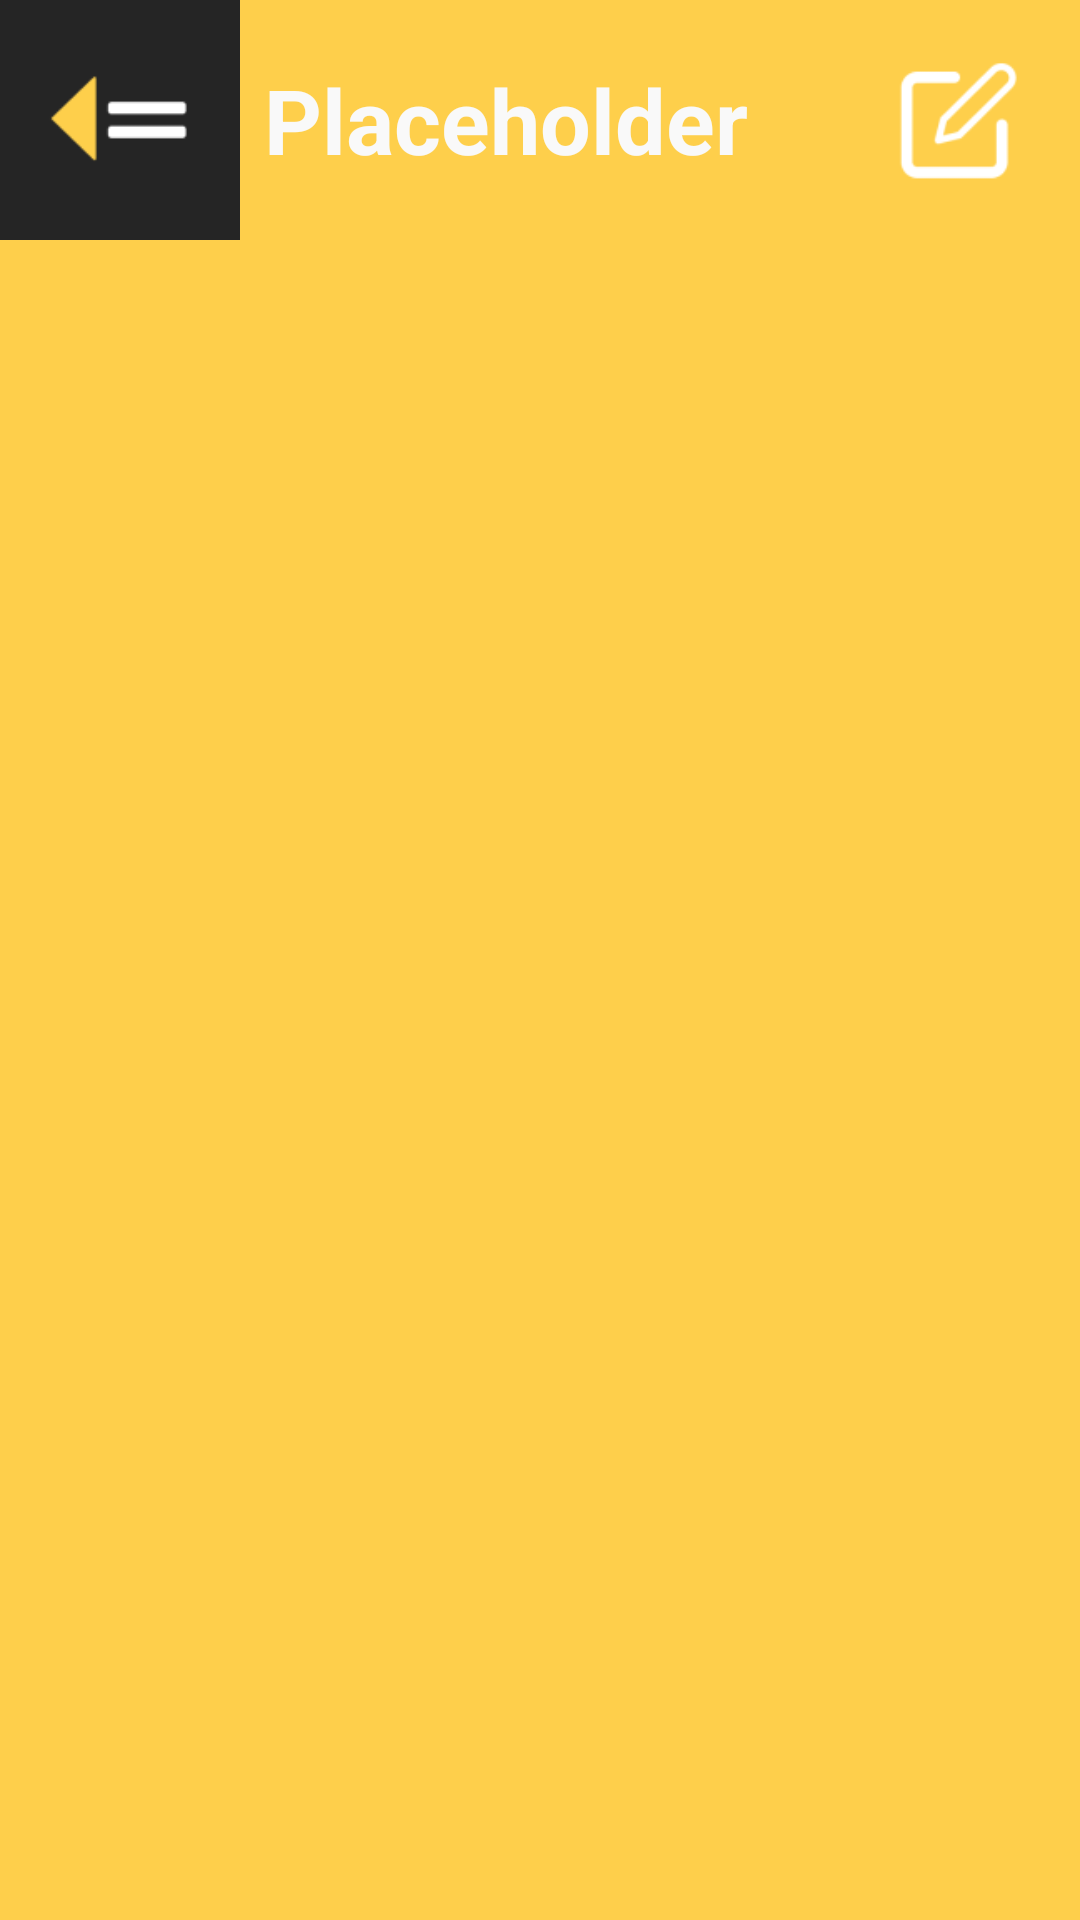

Icons on this 1080px×1920px Android screen, each with the point to tap as [x,y]:
back: [120,120]
edit: [958,121]
